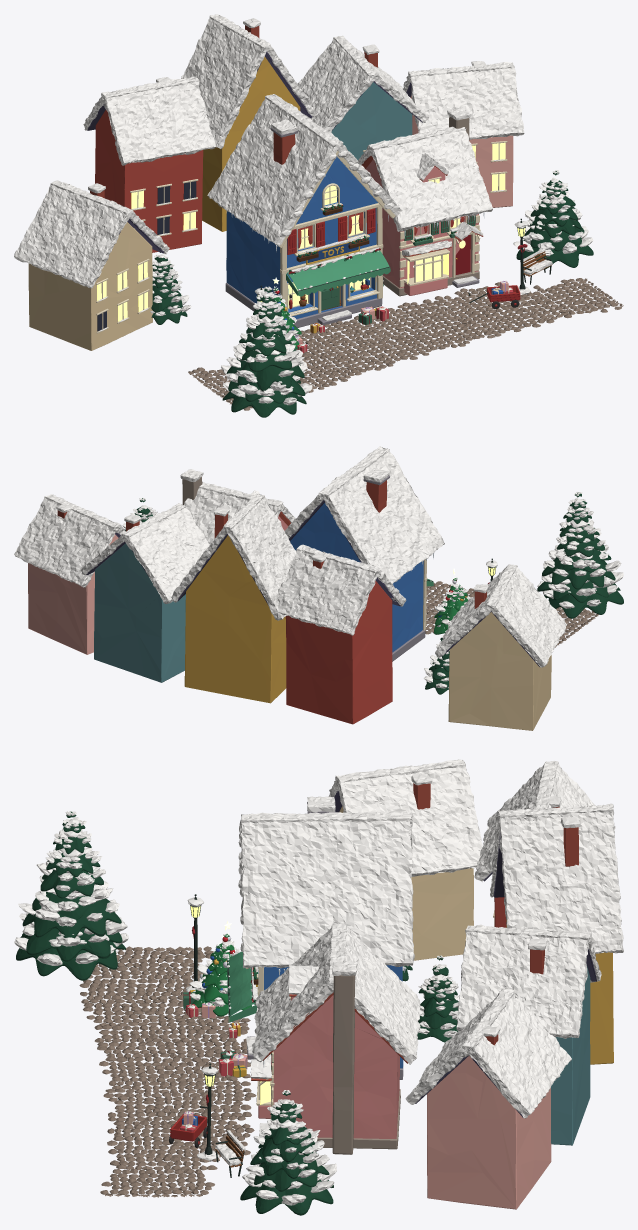
File: corner_clay.glb
The picture shows the model from 3 angles, top to bottom: view 1: azimuth 30°, elevation 25°; view 2: azimuth 150°, elevation 25°; view 3: azimuth 270°, elevation 25°; orthographic projection. The views are drawn at different scales.
Visible parts, largest first — view 1: Snow.001, Cobble.001, Bg0_wall, Needles_0.002, ShopBlue, Bg1_wall, CreamWood.001, Bg2_wall, Bg3_wall, Pink, Awning, Cream (+9 smaller); view 2: Snow.001, Bg2_wall, Bg1_wall, Bg3_wall, Bg0_wall, Bg4_wall, Needles_0.002, ShopBlue, Cobble.001, Brick.001, RoofSlate.001, Needles_0.001 (+1 smaller); view 3: Snow.001, Cobble.001, Bg4_wall, Needles_0.002, Pink, Bg0_wall, StoneWarm, Bg3_wall, Bg2_wall, Awning, Brick.001, Needles_0.001 (+2 smaller).
Part boxes in pixels (x1,y1,x2,y2): Snow.001: (14, 14, 592, 405); Cobble.001: (188, 278, 623, 410); Bg0_wall: (28, 222, 152, 350); Needles_0.002: (151, 171, 593, 417); ShopBlue: (226, 156, 377, 319); Bg1_wall: (95, 110, 203, 252); CreamWood.001: (96, 141, 507, 333); Bg2_wall: (202, 56, 300, 231); Bg3_wall: (331, 82, 412, 160); Pink: (365, 159, 478, 295); Awning: (286, 250, 390, 296); Cream: (280, 203, 480, 310); Snow.001: (14, 446, 623, 688); Bg2_wall: (184, 535, 286, 703); Bg1_wall: (285, 581, 392, 724); Bg3_wall: (94, 543, 185, 682); Bg0_wall: (448, 612, 551, 730); Bg4_wall: (28, 534, 118, 654); Needles_0.002: (124, 492, 623, 694); ShopBlue: (290, 503, 423, 652); Cobble.001: (425, 581, 598, 647); Brick.001: (57, 480, 486, 608); RoofSlate.001: (86, 500, 539, 666); Needles_0.001: (434, 578, 467, 634); Snow.001: (14, 759, 623, 1205); Cobble.001: (79, 946, 256, 1197); Bg4_wall: (427, 1056, 551, 1209); Needles_0.002: (16, 811, 458, 1215); Pink: (258, 995, 399, 1138); Bg0_wall: (339, 806, 473, 960); StoneWarm: (317, 975, 400, 1154); Bg3_wall: (551, 965, 590, 1145); Bg2_wall: (506, 920, 613, 1064); Awning: (227, 951, 257, 1022); Brick.001: (413, 783, 578, 1045); Needles_0.001: (192, 934, 251, 1016).
Size of the model in its own units: 27.57 by 10.21 by 21.73.
